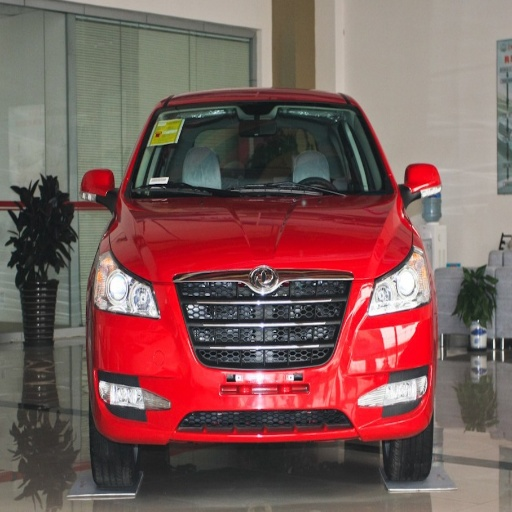front_bumper: (94, 265, 432, 443)
front_right_light: (95, 253, 161, 321)
hood: (110, 195, 414, 281)
left_mirror: (402, 164, 440, 215)
